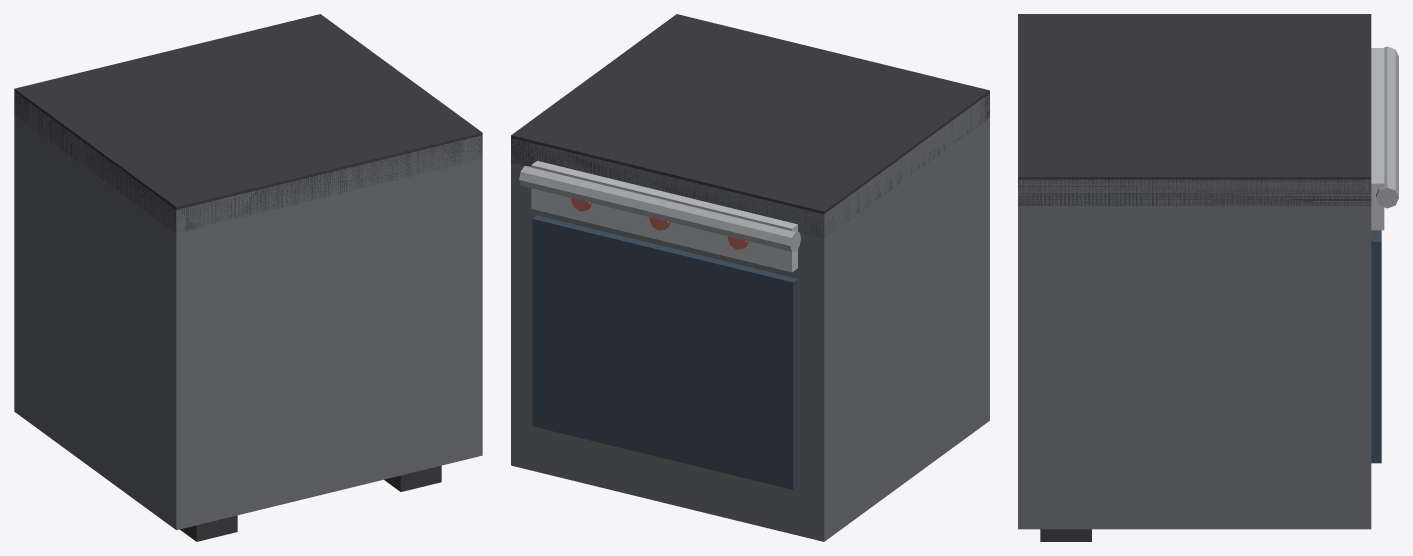
Rendered from eld_forno_eletrico.glb.
3 renders of one model, left to right at view 1: azimuth 30°, elevation 25°; view 2: azimuth 150°, elevation 25°; view 3: azimuth 270°, elevation 25°, orthographic. The views are drawn at different scales.
Visible parts, largest first — view 1: ELD_FORNO_ELETRICO_v01; view 2: ELD_FORNO_ELETRICO_v01; view 3: ELD_FORNO_ELETRICO_v01.
Part boxes in pixels (box(x1,y1,x2,y2)): ELD_FORNO_ELETRICO_v01: box(14, 14, 482, 541); ELD_FORNO_ELETRICO_v01: box(511, 14, 989, 541); ELD_FORNO_ELETRICO_v01: box(1018, 14, 1398, 541).
Bounding box in the file's own units: 0.6 × 0.655 × 0.593.
